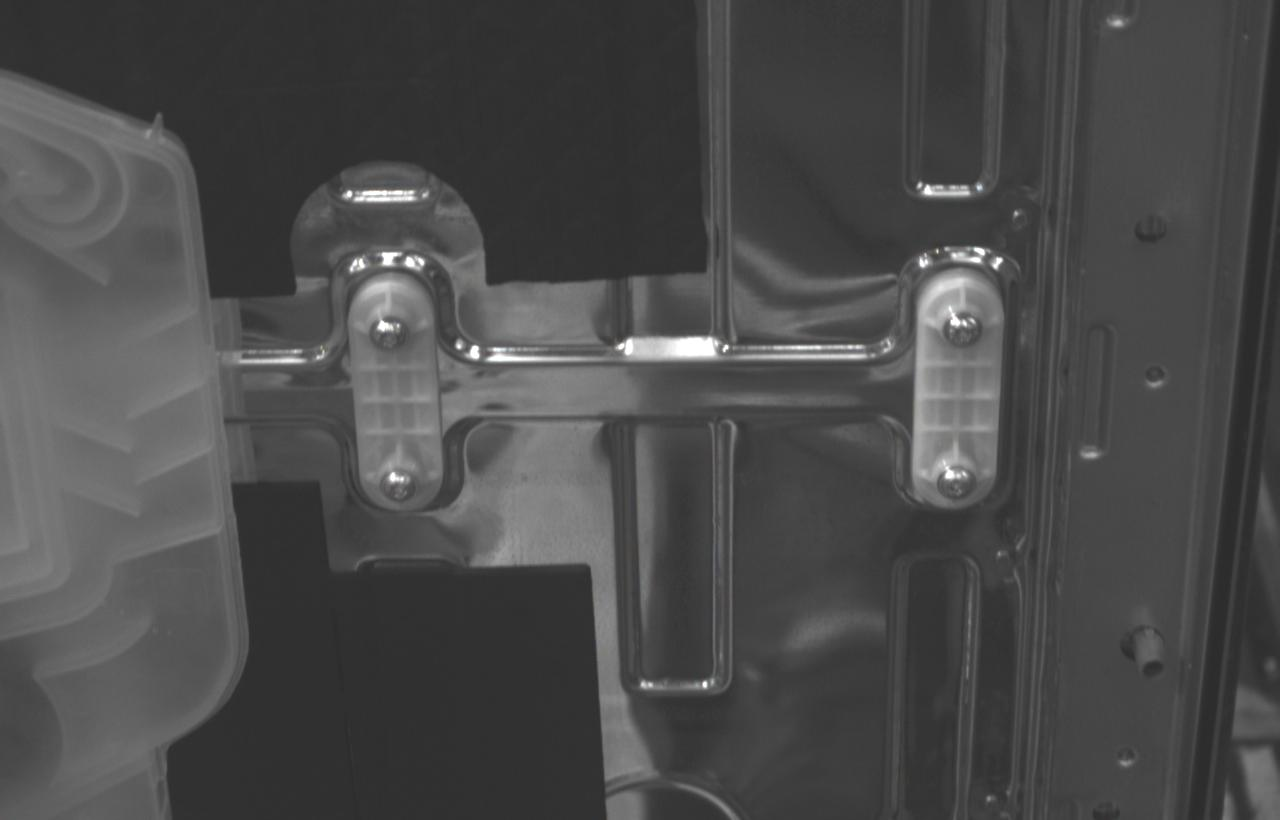vida-ok: (943, 312, 983, 349), (937, 465, 977, 500), (370, 316, 407, 351), (379, 468, 417, 502)
